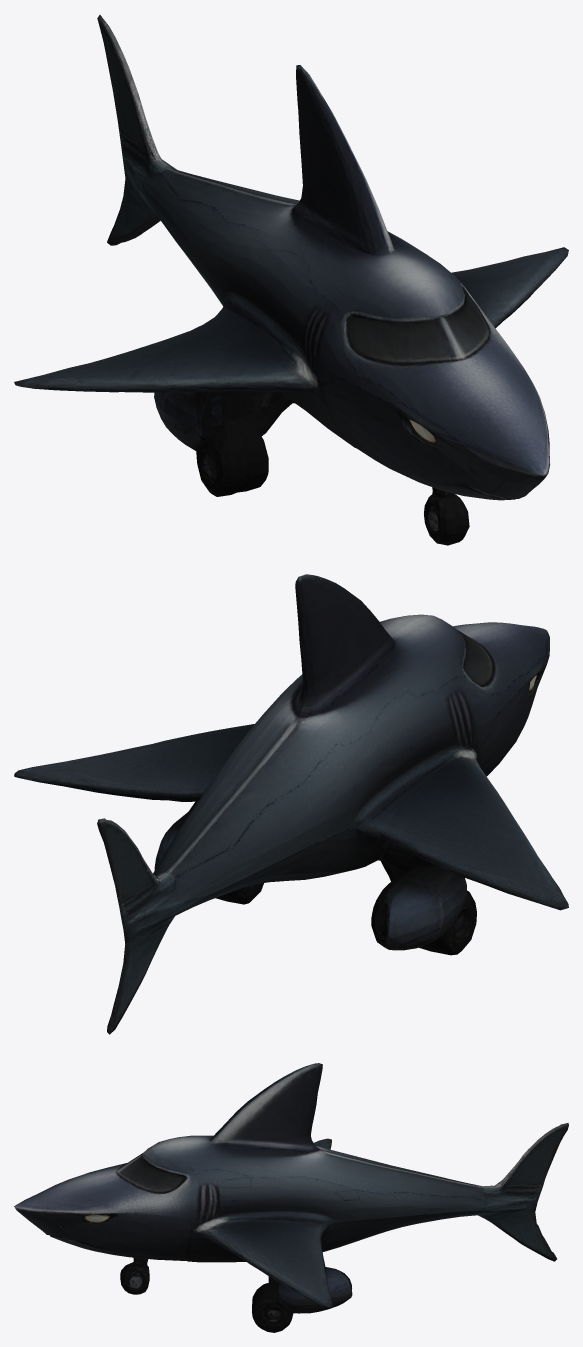
3 views of the same model, one above another, from view 1: azimuth 30°, elevation 25°; view 2: azimuth 150°, elevation 25°; view 3: azimuth 270°, elevation 25° (orthographic). The views are drawn at different scales.
Visible parts, largest first — view 1: world; view 2: world; view 3: world.
Boxes of the visible parts, <box> form: world: <box>14,15,568,545</box>; world: <box>14,574,568,1034</box>; world: <box>14,1063,568,1332</box>.
Size of the model in its own units: 0.7177 by 0.4637 by 1.
1 material, 1 textured.
